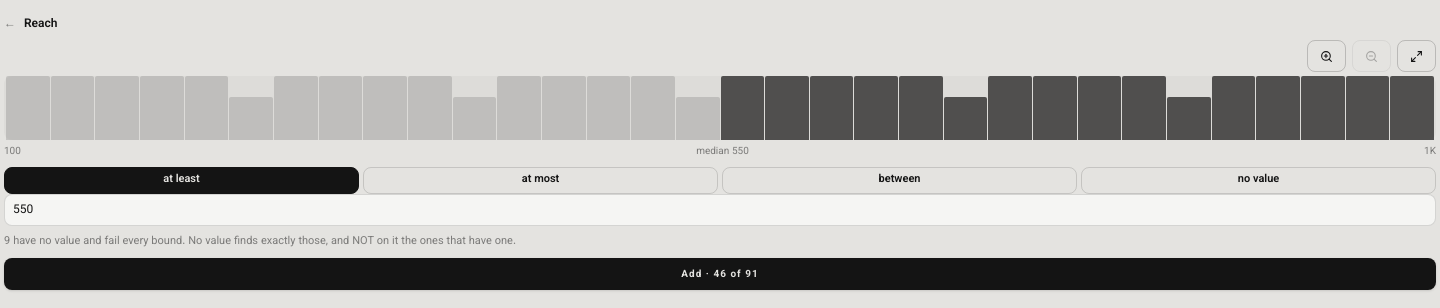
Test: local values › prefill the median and count what the bound keeps of the measured
Expected: the button with test id "number-bound-submit" reads "Add · 46 of 91", [4,258,1436,290]
Replace the text in the number field named "Value" with "950" at coordinates (720, 210), box [4,194,1436,226]
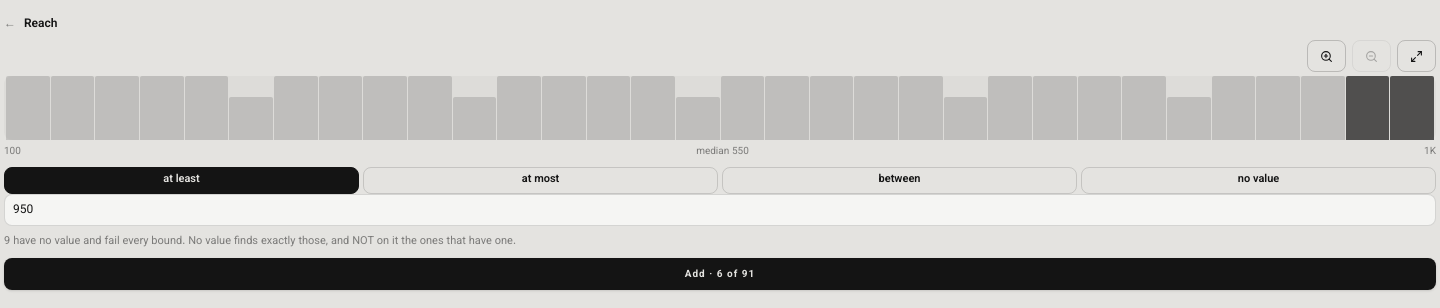
Result: the button with test id "number-bound-submit" reads "Add · 6 of 91" at [4,258,1436,290]
